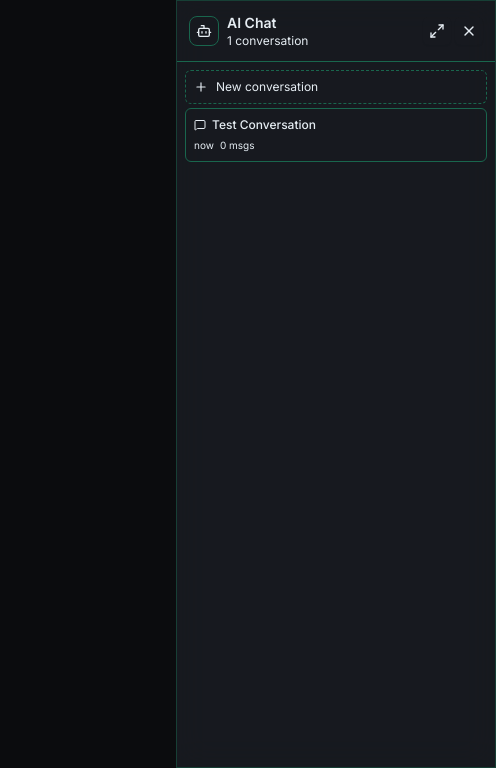
AIDrawer › Minimized state › expand button opens expanded state
Click the 1st button: (437, 31) [423,17,451,45]
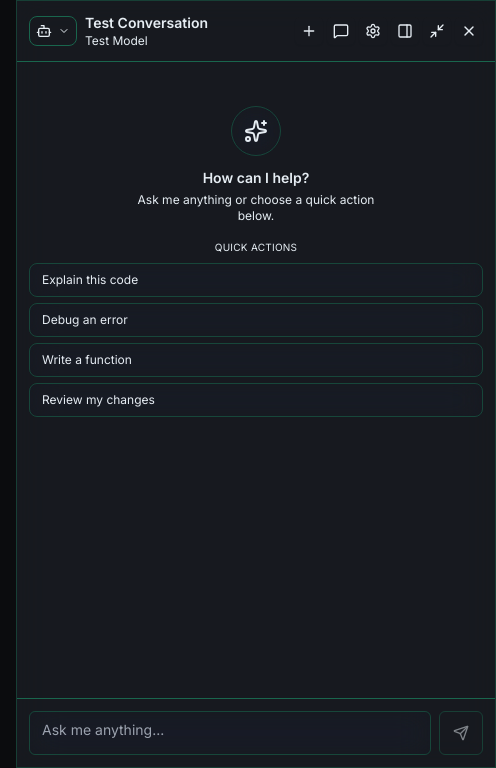
Now the heading "How can I help?" is shown, box [203,168,309,188]
